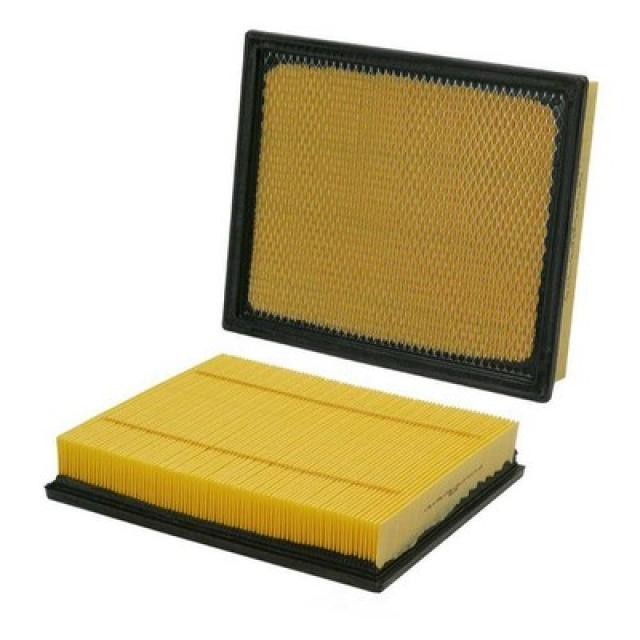air_filter: (234, 18, 601, 390), (51, 353, 529, 596)
